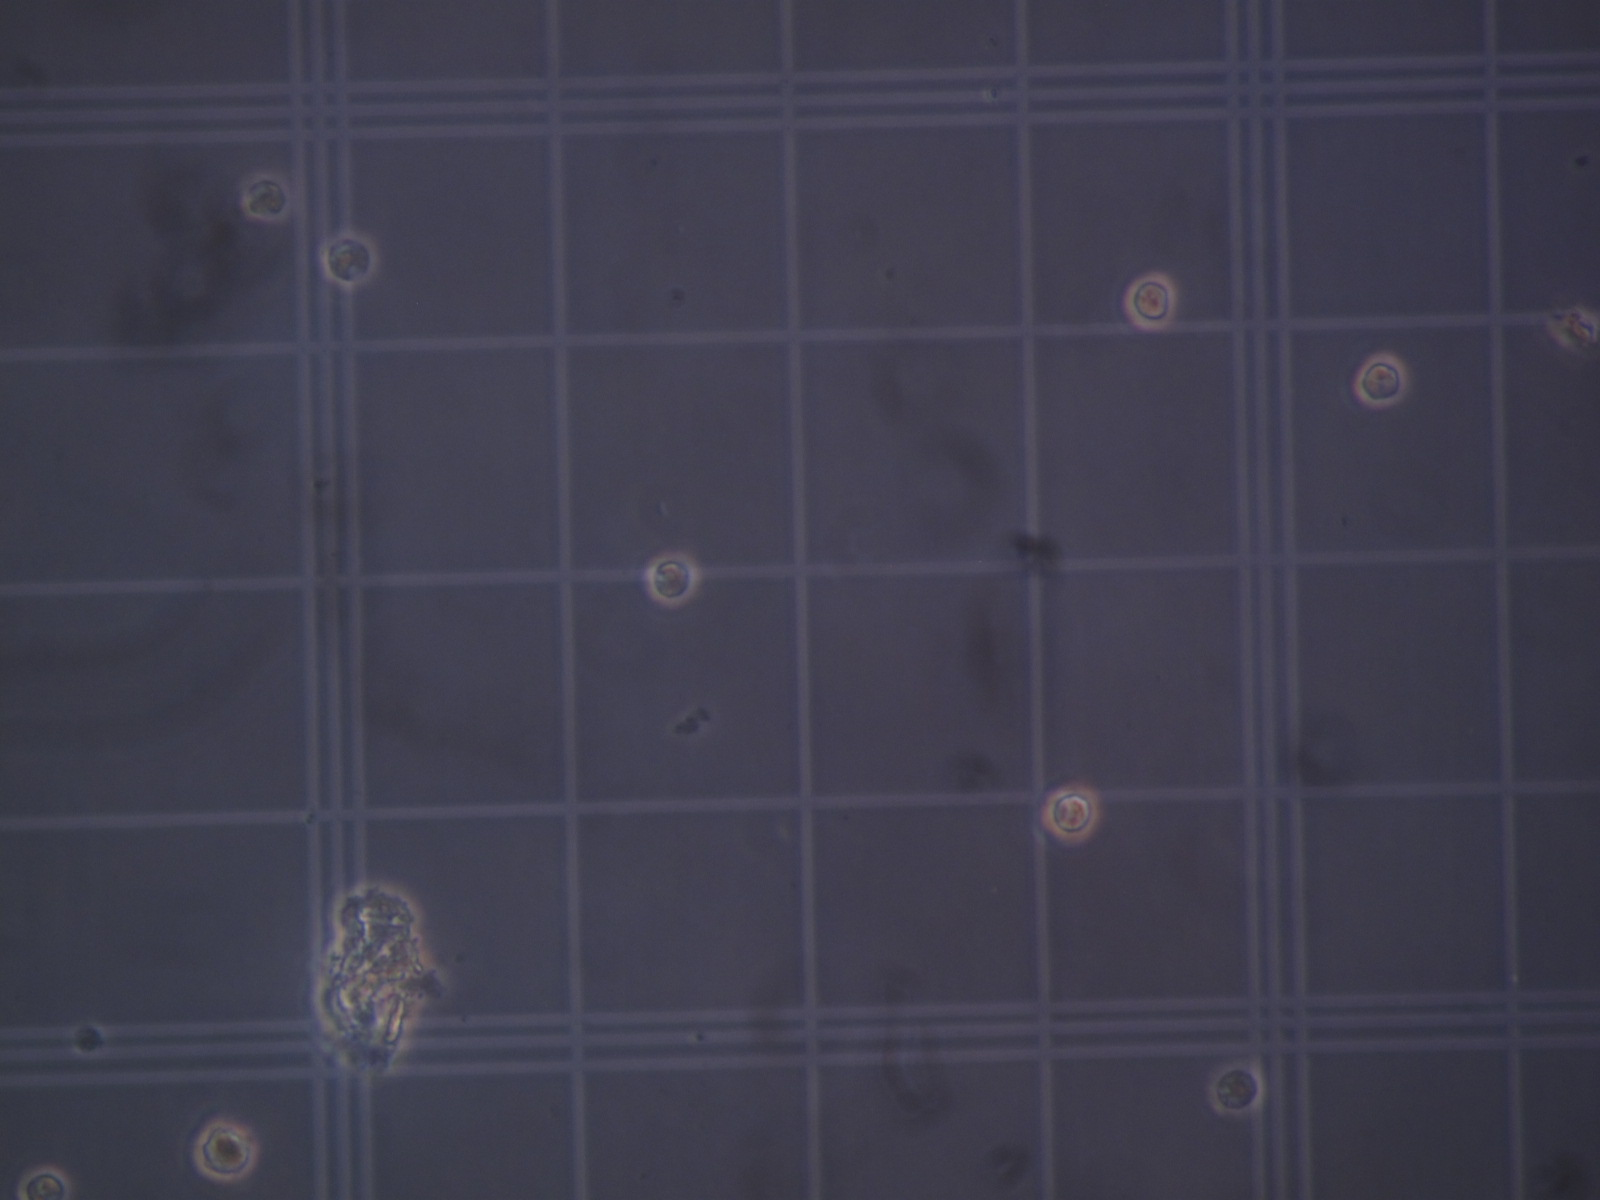hemo: (193, 1119, 258, 1182), (320, 228, 378, 287), (1042, 785, 1099, 842), (1207, 1061, 1265, 1116), (1123, 272, 1175, 332), (644, 551, 698, 606), (1354, 352, 1407, 408), (239, 170, 292, 222), (16, 1166, 73, 1200)
